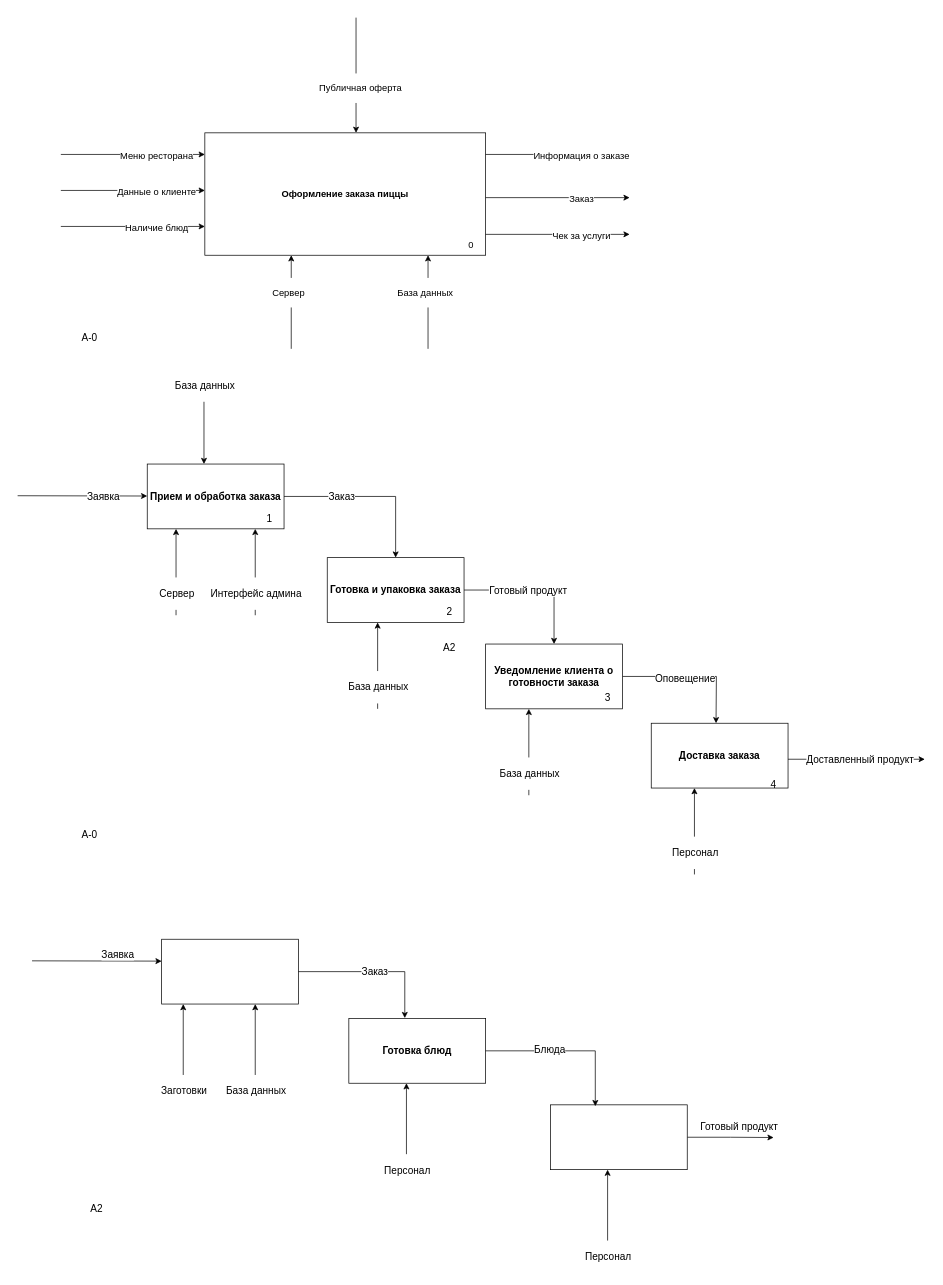
Image size: 943x1285. Some labels were removed from this diagram. Here are the shapes that lost their labels. From the top down, the centre of each, then its label:
At point 229,971: "Проверка наличия ингредиентов".
At point 618,1137: "Упаковка и комплектация заказа".
